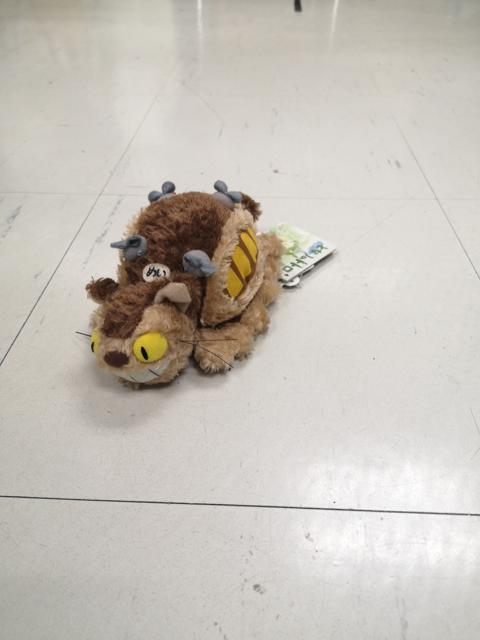nekobus: (76, 176, 289, 400)
